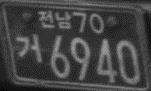0: (116, 38, 141, 86), (89, 11, 104, 35)
4: (96, 37, 118, 84)
6: (49, 34, 71, 80)
7: (71, 10, 88, 34)
9: (71, 36, 93, 81)
거: (15, 32, 43, 65)
전남_O: (36, 8, 71, 30)
